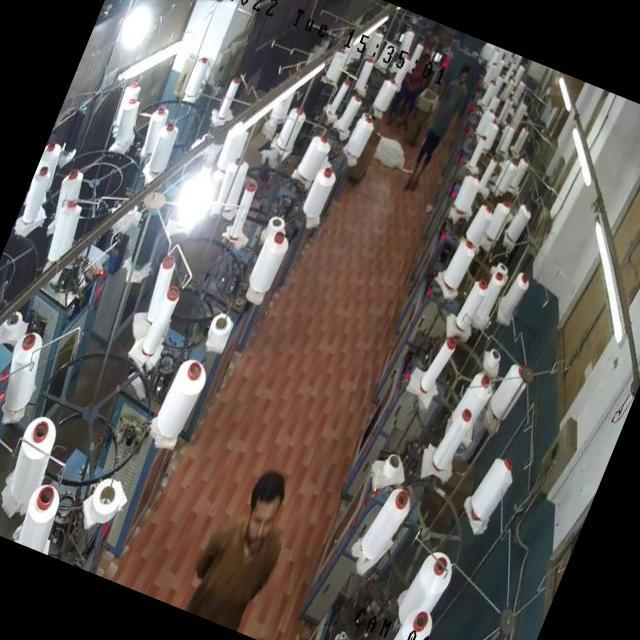person: (184, 463, 307, 636), (398, 56, 478, 204)
